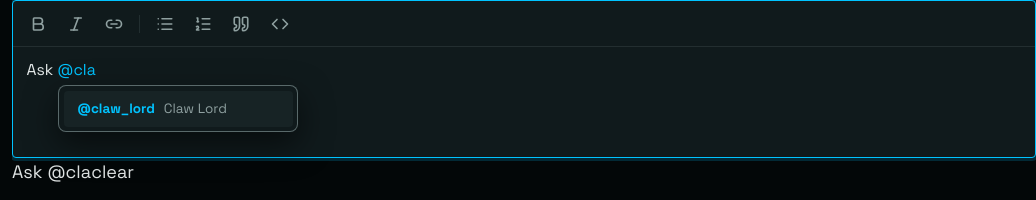
ForumEditor › suggests members after @ and inserts the handle as text
Press the mouse on the option with test id "forum-mention-option" at (178, 109), box [64,91,293,127]
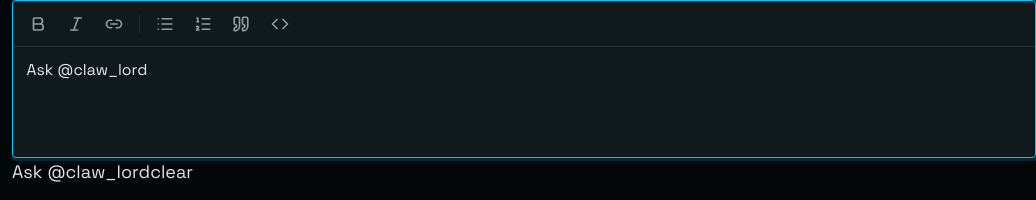
Now the text with test id "markdown" reads "Ask @claw_lord", box [12,160,150,183]
